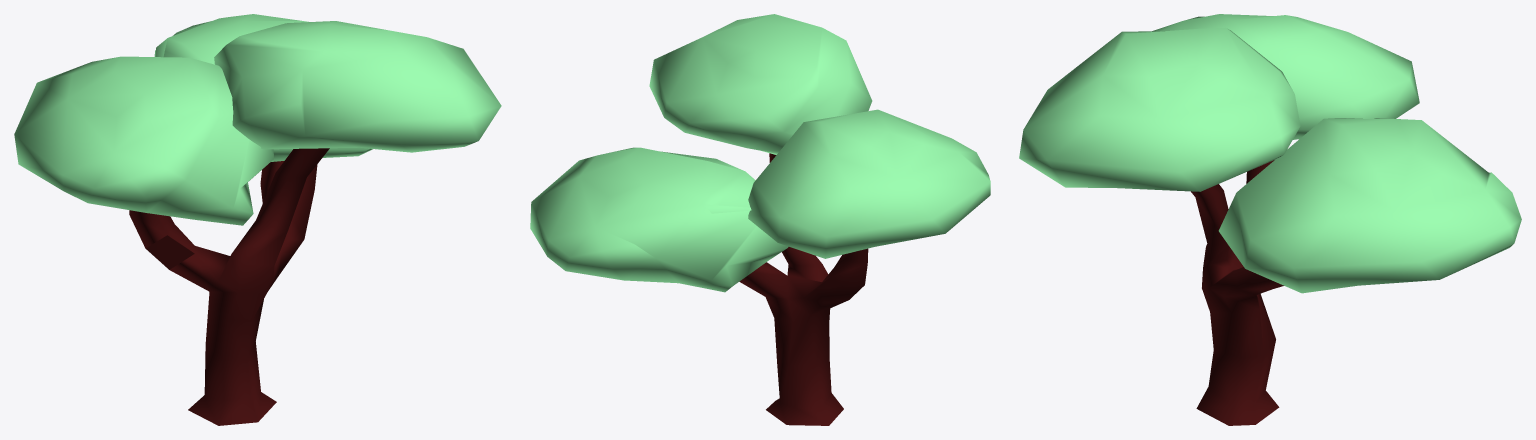
3 views of the same model, side by side, from view 1: azimuth 30°, elevation 25°; view 2: azimuth 150°, elevation 25°; view 3: azimuth 270°, elevation 25° (orthographic). The views are drawn at different scales.
Visible parts, largest first — view 1: Tree2Small; view 2: Tree2Small; view 3: Tree2Small.
Boxes of the visible parts, x1,y1,x2,y2 form: Tree2Small: [14, 14, 501, 425]; Tree2Small: [530, 14, 990, 425]; Tree2Small: [1019, 14, 1521, 425].
Size of the model in its own units: 569 by 501 by 584.
